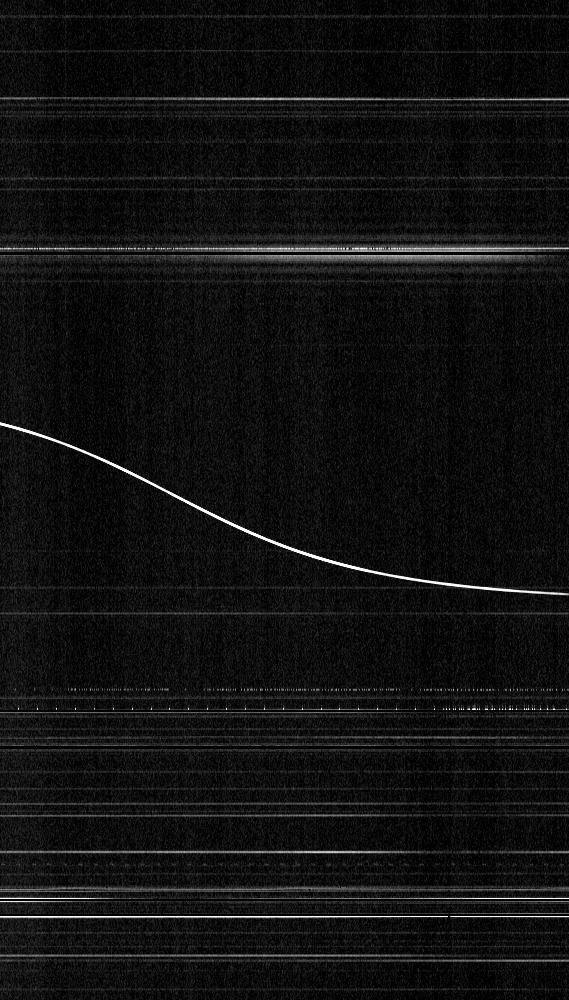signal: (0, 0, 568, 999)
